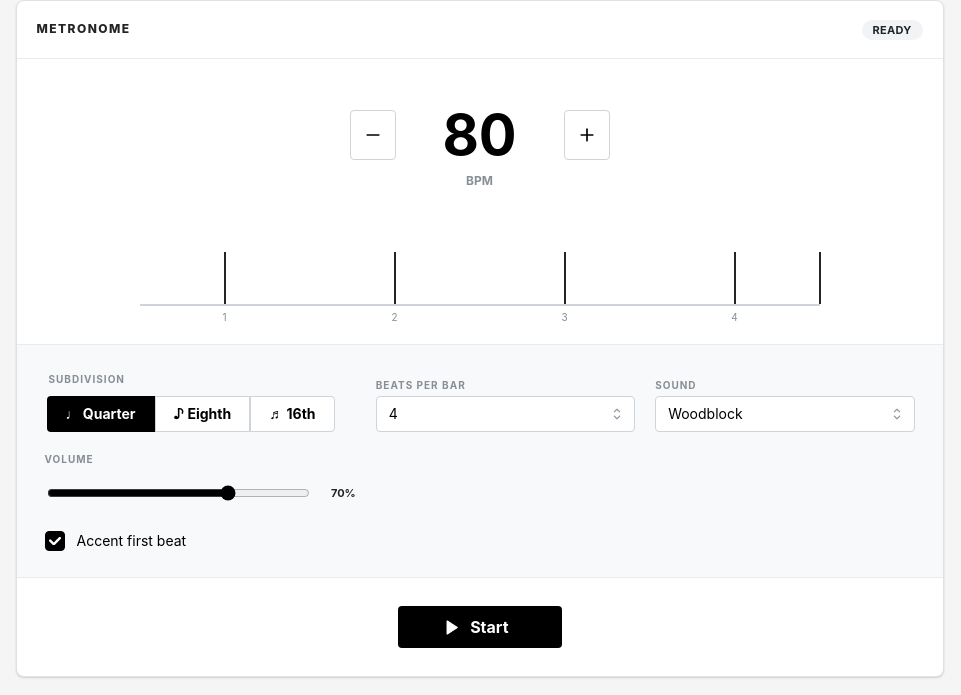
Test case: Metronome UI › updates all controls and the visible ruler
The image size is (961, 695).
Click the button "♬ 16th".
click(292, 414)  # box [250,396,334,432]
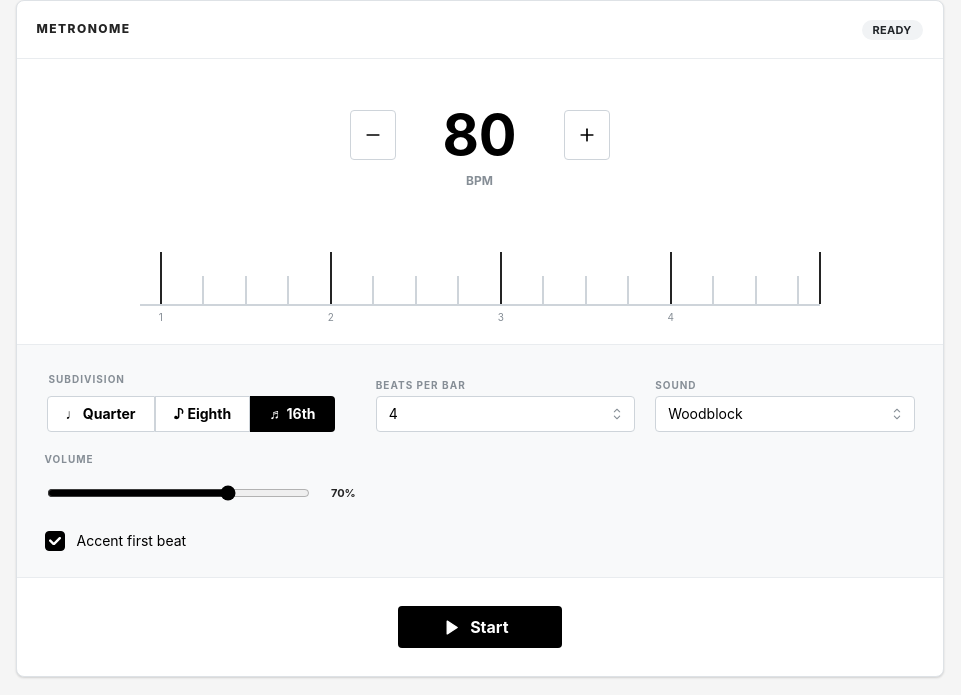
Select "3" in the dropdown labelled "BEATS PER BAR" at (506, 414), box [376,396,635,432]
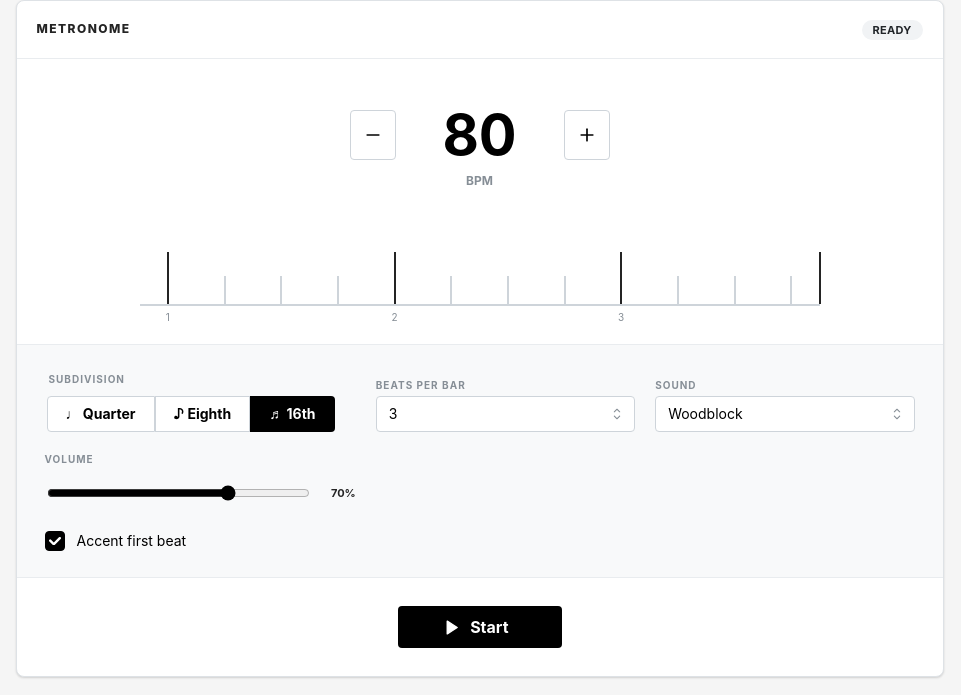
Select "Drum kit" in the dropdown labelled "SOUND" at (785, 414), box [655,396,914,432]
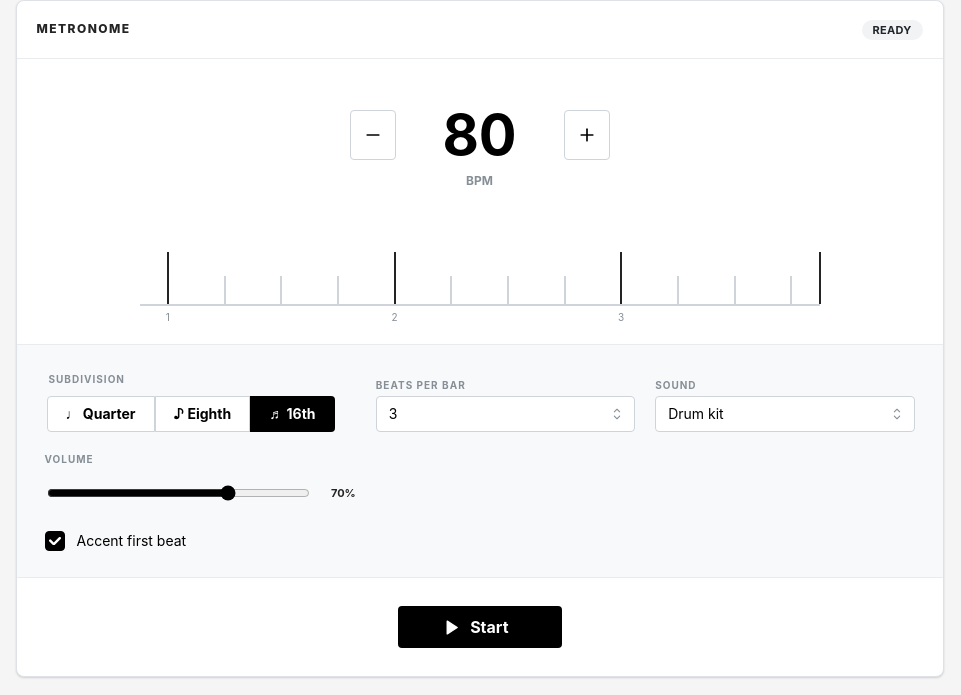
Set the slider labelled "VOLUME" to "0.42" at (158, 493), box [46,485,310,501]
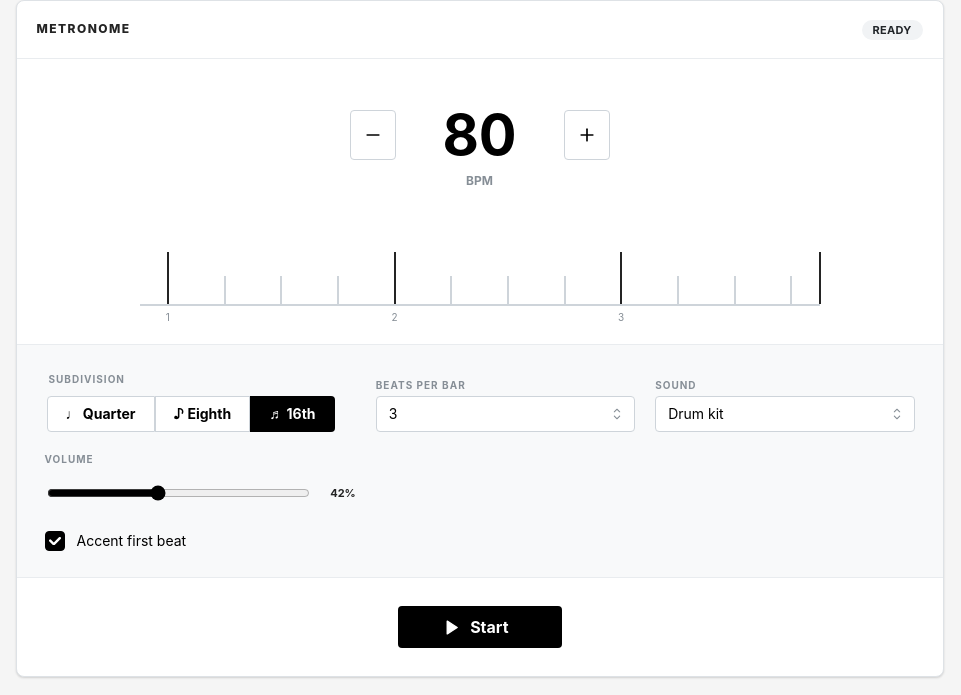
Expected: the text "42%" is shown, [330,486,356,500]
